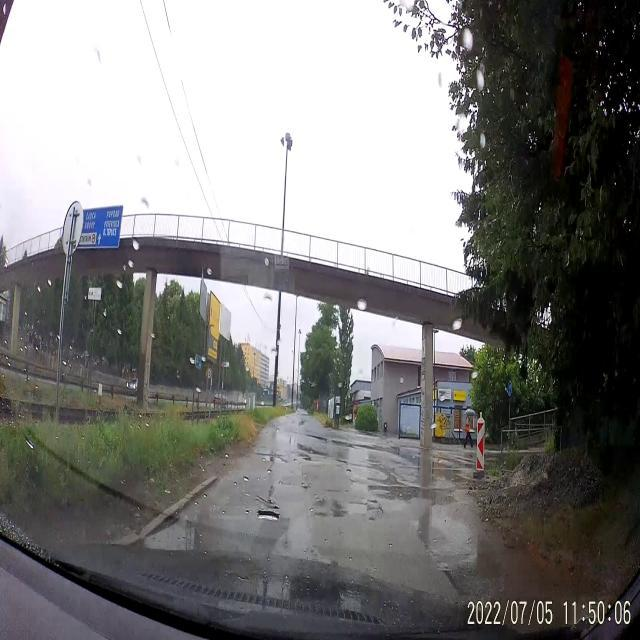Pothole: (342, 492, 386, 528), (258, 447, 290, 469), (298, 451, 322, 466), (334, 456, 351, 468)
